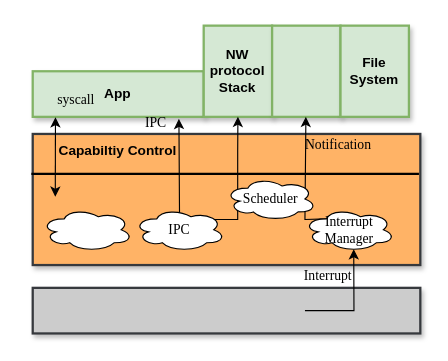
The diagram is 448 pixels wide and 361 high, and some of its shapes have lost their labels. The shapes that lost their labels are listed below. From the top down, each one's centre as x and y in pixels, then its label:
At point 307,72: "Device Driver".
At point 86,229: "VMM".
At point 227,312: "HardWare".
